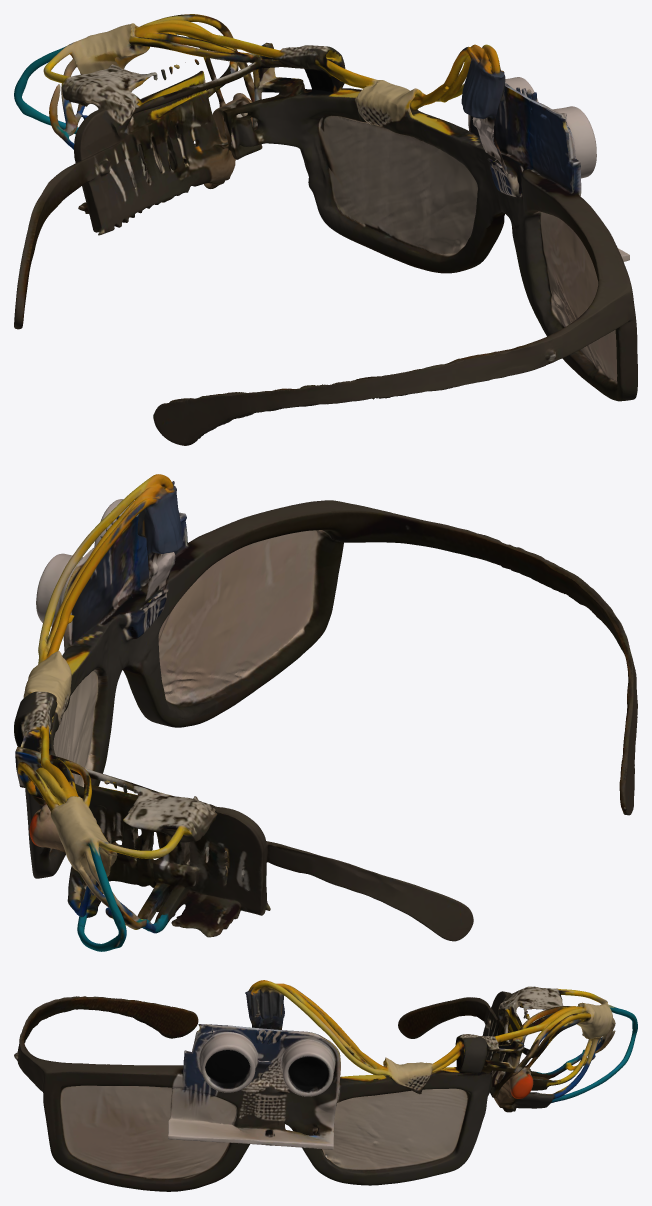
Rendered from result.glb.
The picture shows the model from 3 angles, top to bottom: view 1: azimuth 30°, elevation 25°; view 2: azimuth 150°, elevation 25°; view 3: azimuth 270°, elevation 25°; orthographic projection. The views are drawn at different scales.
Parts seen in each view (by area): view 1: tripo_node_fc8e4fc1-a864-4ecb-a0db-d45360ec38cc; view 2: tripo_node_fc8e4fc1-a864-4ecb-a0db-d45360ec38cc; view 3: tripo_node_fc8e4fc1-a864-4ecb-a0db-d45360ec38cc.
Boxes of the visible parts, box(x1,y1,x2,y2) form: tripo_node_fc8e4fc1-a864-4ecb-a0db-d45360ec38cc: box(14, 14, 637, 445); tripo_node_fc8e4fc1-a864-4ecb-a0db-d45360ec38cc: box(14, 474, 637, 951); tripo_node_fc8e4fc1-a864-4ecb-a0db-d45360ec38cc: box(14, 980, 637, 1191).
Bounding box in the file's own units: 0.6205 × 0.3563 × 1.
1 material, 1 textured.
